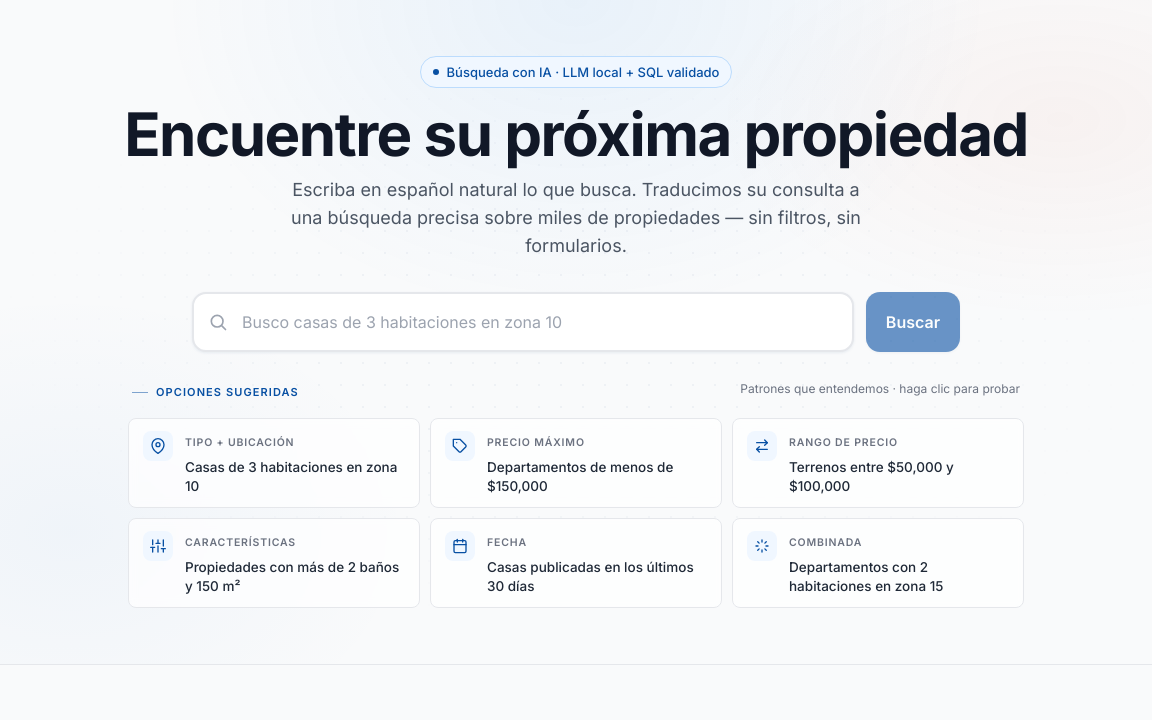
Test: SearchView › renders ErrorAlert with code message on API error
Type "algo" into the search field with placeholder "Busco casas de 3 habitaciones en zona 10" at (523,322), box [192,292,854,352]
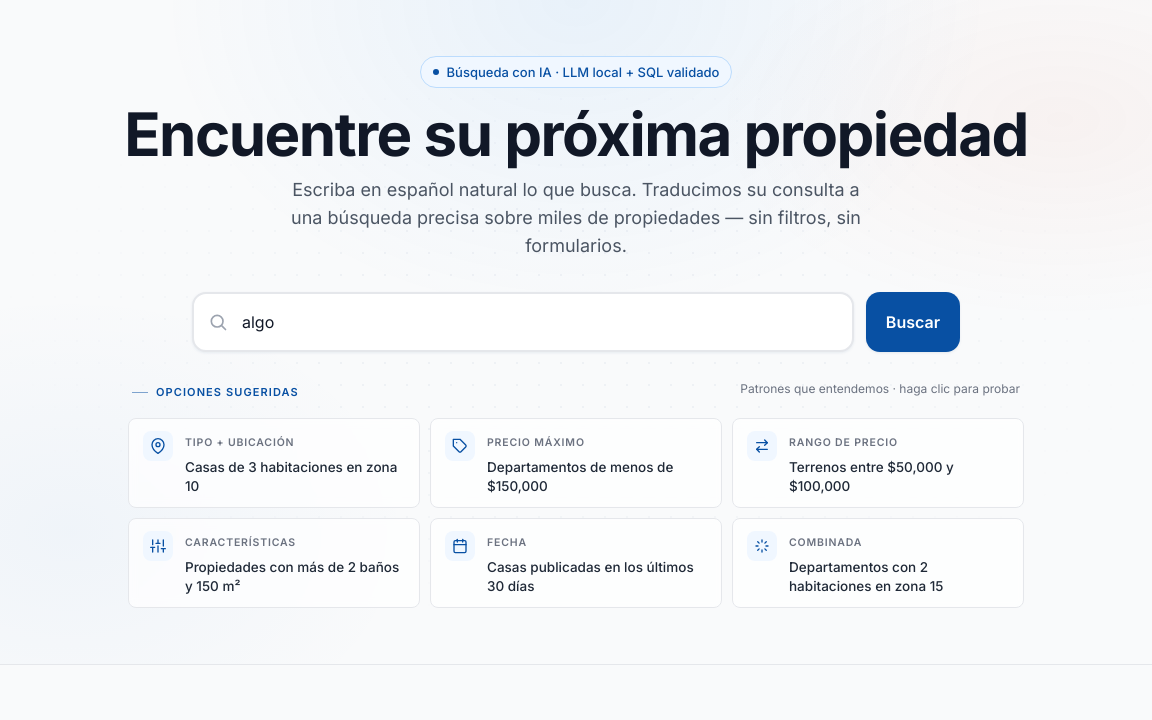
Submit the form, box [192,292,960,352]
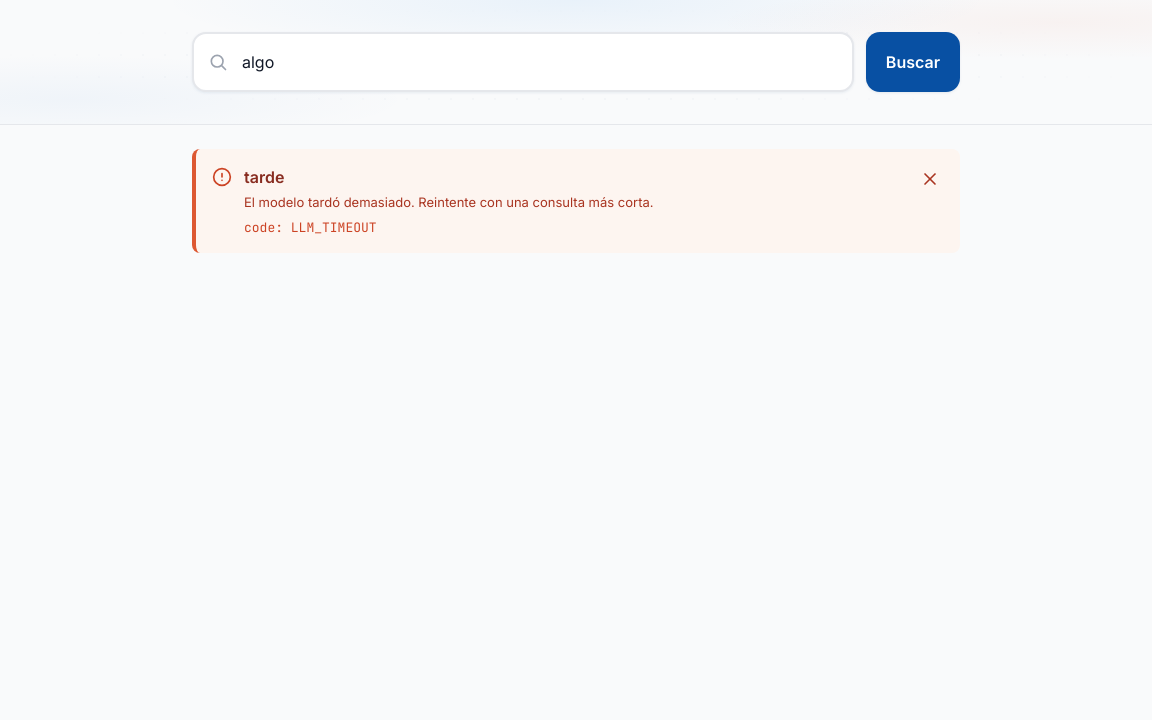
Now the text "tarde" is shown, box [244,167,284,187]
Now the text "LLM_TIMEOUT" is shown, box [244,219,377,236]
